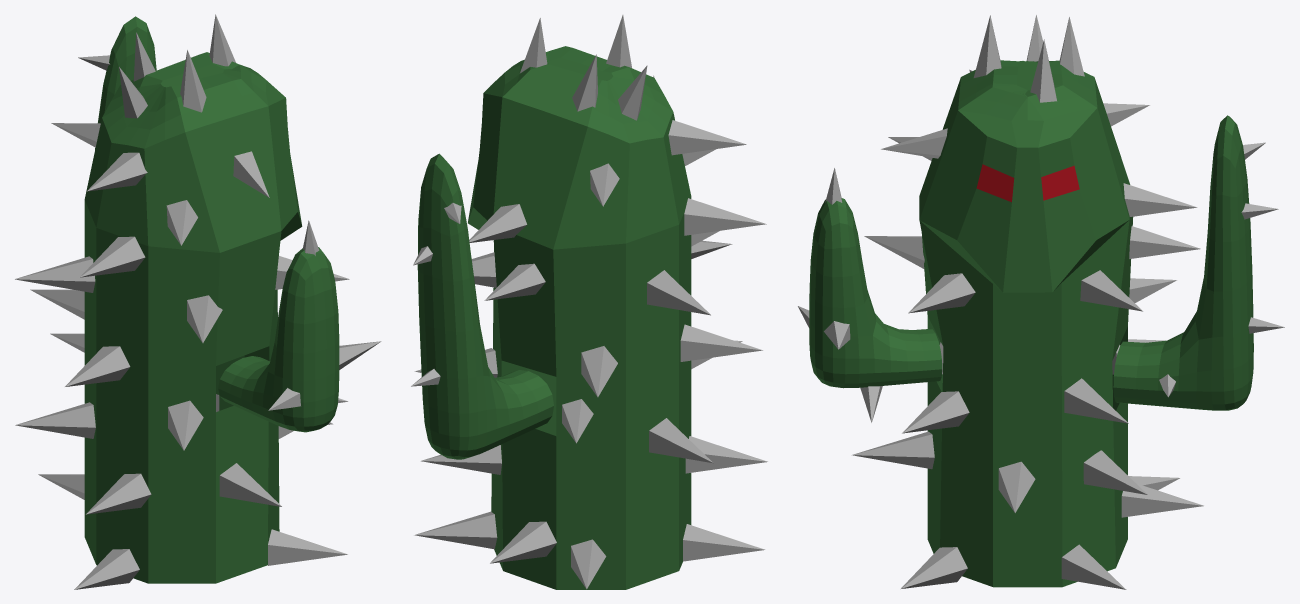
File: Cactus.fbx
3 renders of one model, left to right at view 1: azimuth 30°, elevation 25°; view 2: azimuth 150°, elevation 25°; view 3: azimuth 270°, elevation 25°, orthographic. The views are drawn at different scales.
Parts seen in each view (by area): view 1: Cube.035; view 2: Cube.035; view 3: Cube.035.
Boxes of the visible parts, <box> form: Cube.035: <box>15,14,381,589</box>; Cube.035: <box>411,15,767,589</box>; Cube.035: <box>798,15,1284,589</box>.
Size of the model in its own units: 341 by 582 by 480.
